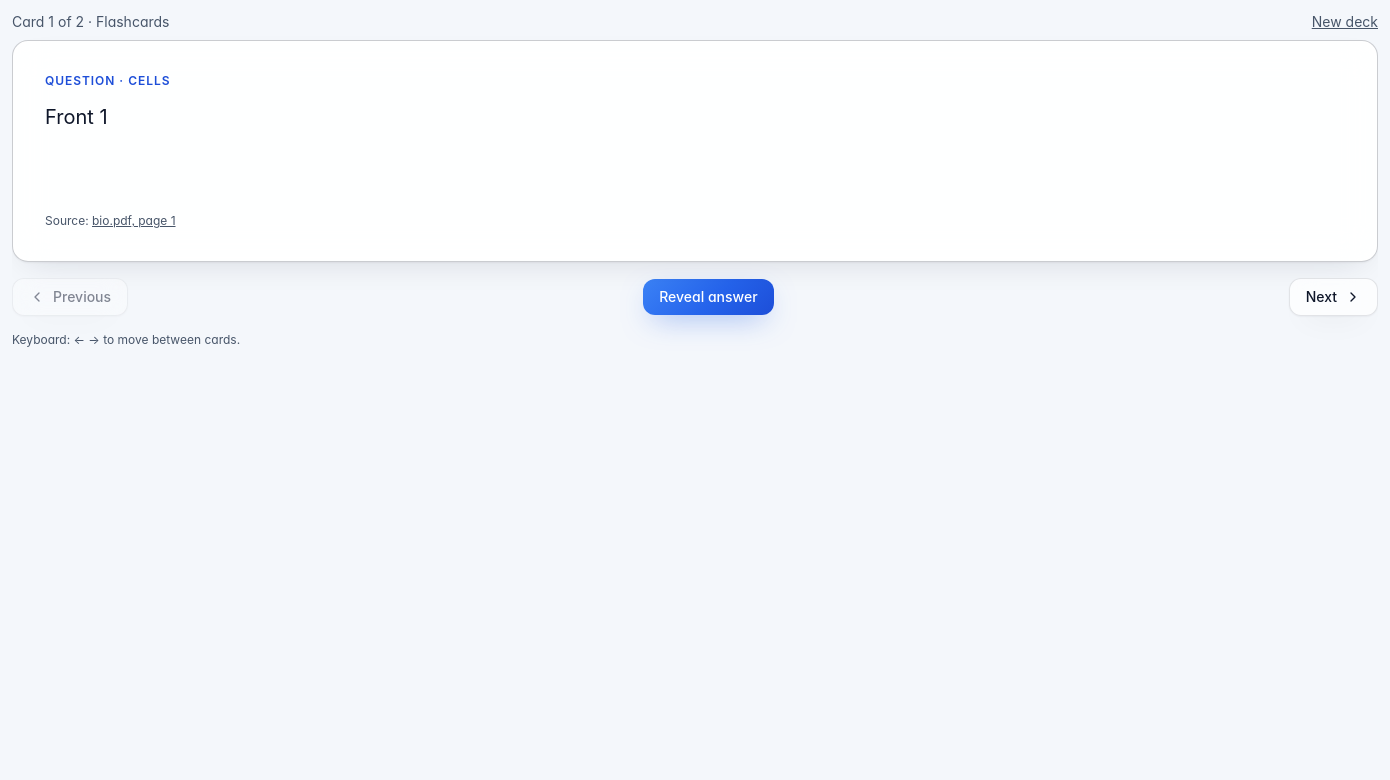
Test case: FlashcardViewer › reports a failed rating and links the source page
Click the button "Reveal answer" at (708, 297), box [643,279,774,315]
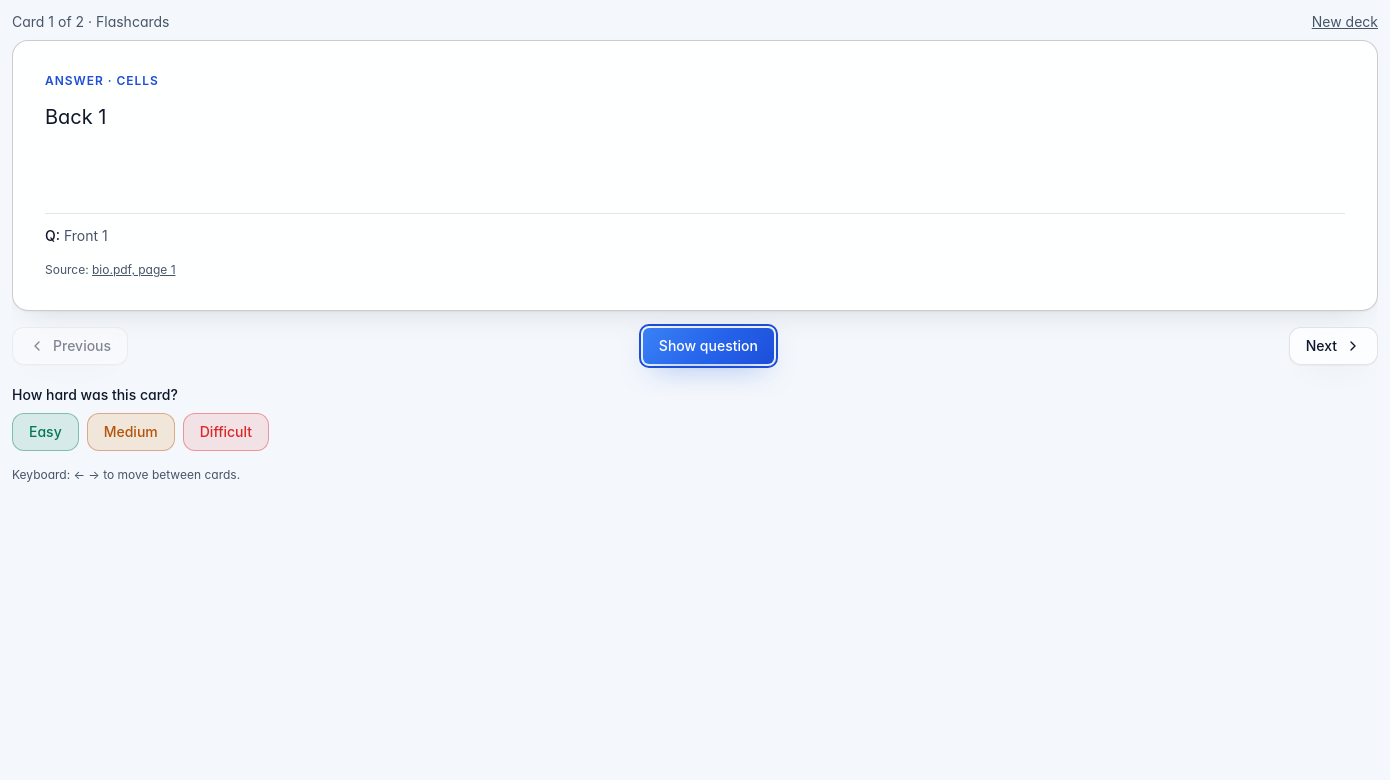
Click the button "Easy" at (45, 432), box [12,413,79,451]
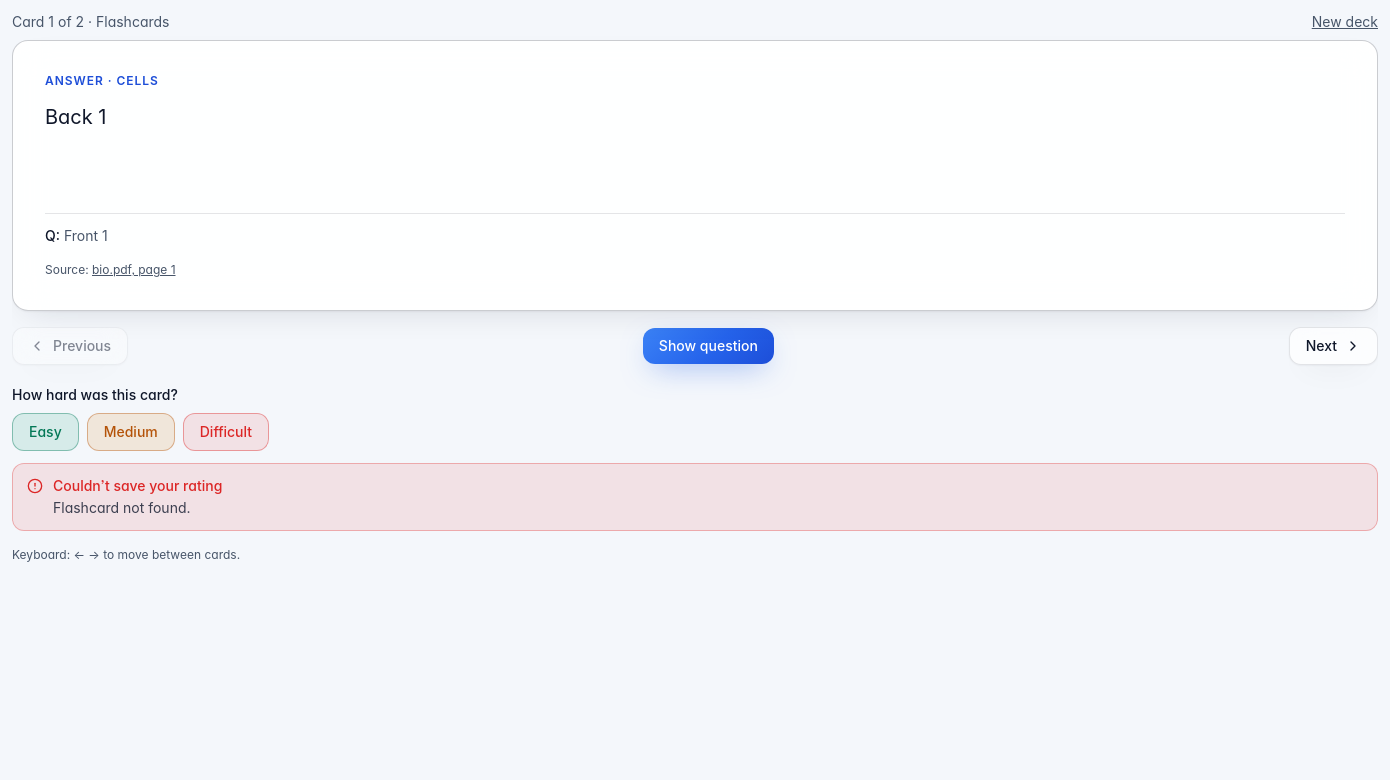
Check: the text "Flashcard not found." is shown, box [53,499,190,516]
